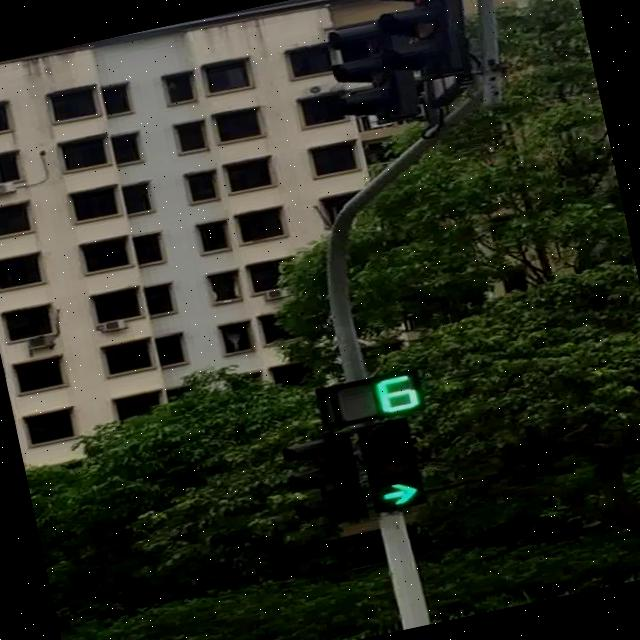green_light: (357, 416, 427, 512)
